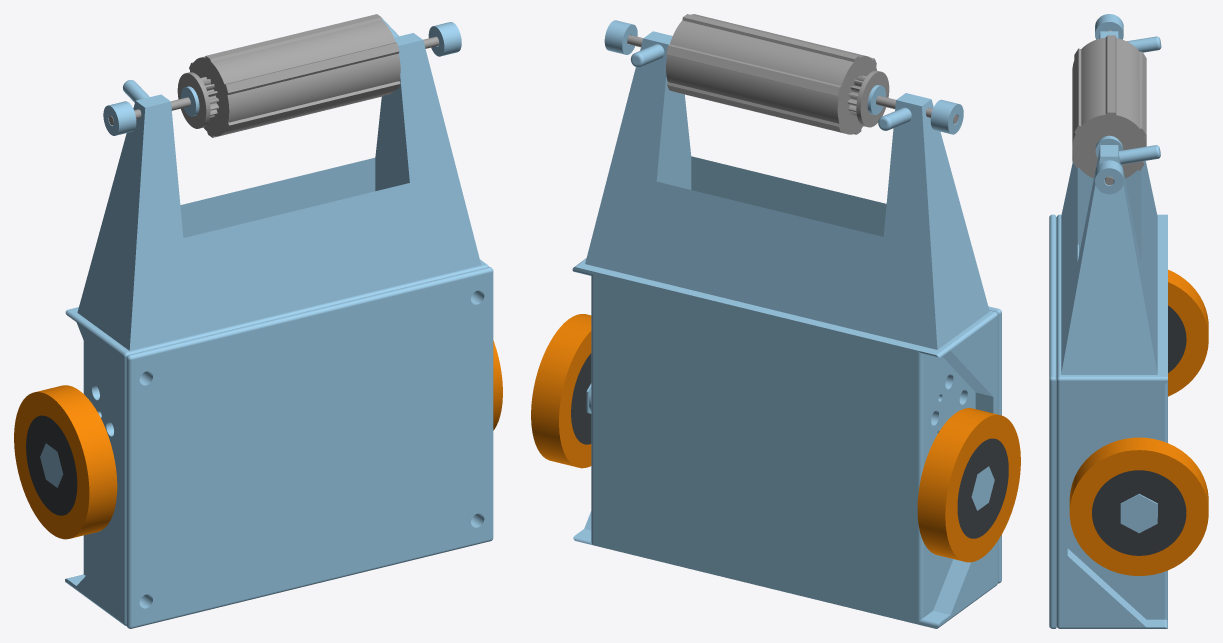
Rendered from FinalAssembly.obj.
3 views of the same model, side by side, from view 1: azimuth 30°, elevation 25°; view 2: azimuth 150°, elevation 25°; view 3: azimuth 270°, elevation 25° (orthographic). The views are drawn at different scales.
Parts seen in each view (by area): view 1: mesh2924, mesh2405, mesh2409, mesh2402, mesh1114, mesh2962, mesh2642, mesh1115, mesh2958, mesh1683, mesh2414, mesh2660 (+15 smaller); view 2: mesh2625, mesh2401, mesh1114, mesh2409, mesh2406, mesh1115, mesh2963, mesh2959, mesh1683, mesh2660, mesh2642, mesh2414 (+12 smaller); view 3: mesh2407, mesh1113, mesh2632, mesh2634, mesh1682, mesh2401, mesh2405, mesh2957, mesh1114, mesh2655, mesh2958, mesh2963 (+22 smaller).
Part boxes in pixels (x1,y1,x2,y2): mesh2924: [132, 272, 491, 626]; mesh2405: [129, 40, 481, 350]; mesh2409: [77, 101, 145, 350]; mesh2402: [180, 157, 375, 237]; mesh1114: [35, 340, 502, 538]; mesh2962: [227, 53, 400, 122]; mesh2642: [65, 322, 123, 622]; mesh1115: [14, 392, 89, 539]; mesh2958: [211, 20, 395, 84]; mesh1683: [26, 415, 77, 515]; mesh2414: [375, 77, 409, 191]; mesh2660: [84, 343, 118, 575]; mesh2625: [572, 267, 938, 628]; mesh2401: [585, 38, 937, 349]; mesh1114: [531, 314, 998, 561]; mesh2409: [922, 99, 989, 349]; mesh2406: [691, 156, 886, 236]; mesh1115: [559, 331, 1020, 562]; mesh2963: [670, 20, 853, 85]; mesh2959: [666, 55, 839, 123]; mesh1683: [571, 353, 1008, 538]; mesh2660: [923, 354, 975, 617]; mesh2642: [939, 317, 997, 625]; mesh2414: [656, 76, 691, 189]; mesh2407: [1061, 156, 1157, 374]; mesh1113: [1069, 282, 1208, 575]; mesh2632: [1060, 381, 1167, 626]; mesh2634: [1067, 384, 1164, 619]; mesh1682: [1092, 305, 1186, 555]; mesh2401: [1118, 32, 1157, 373]; mesh2405: [1061, 33, 1100, 372]; mesh2957: [1072, 112, 1146, 178]; mesh1114: [1069, 269, 1208, 508]; mesh2655: [1060, 215, 1167, 376]; mesh2958: [1081, 37, 1105, 125]; mesh2963: [1116, 38, 1139, 128].
Size of the model in its own units: 0.1515 by 0.1816 by 0.0546.
